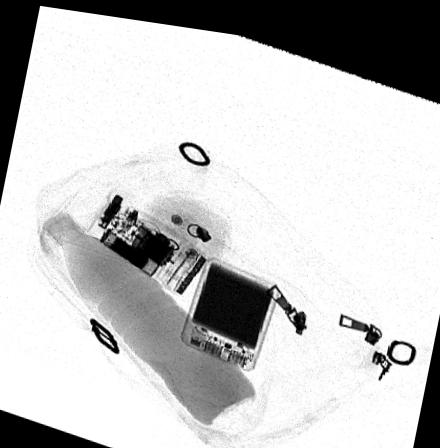Powerbank: (179, 250, 279, 364)
